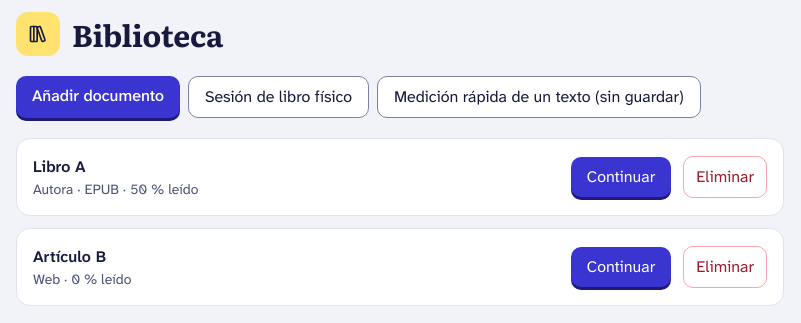
Test case: LibraryPage › lista los documentos con su avance y permite eliminar con confirmación
This screenshot has width=801, height=323.
Expected: the text "Libro A" is shown, [33,156,86,177]
Expected: the text "Artículo B" is shown, [33,246,106,267]
Step 1. Click the button "Eliminar" in the row of "Libro A" → (725, 177), box [683,156,767,198]
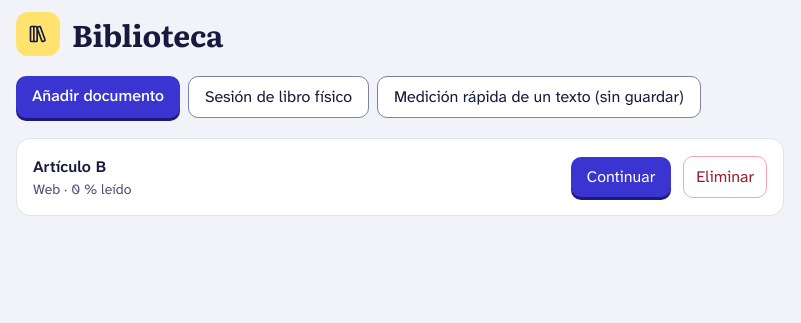
Now the text "Libro A" is gone
